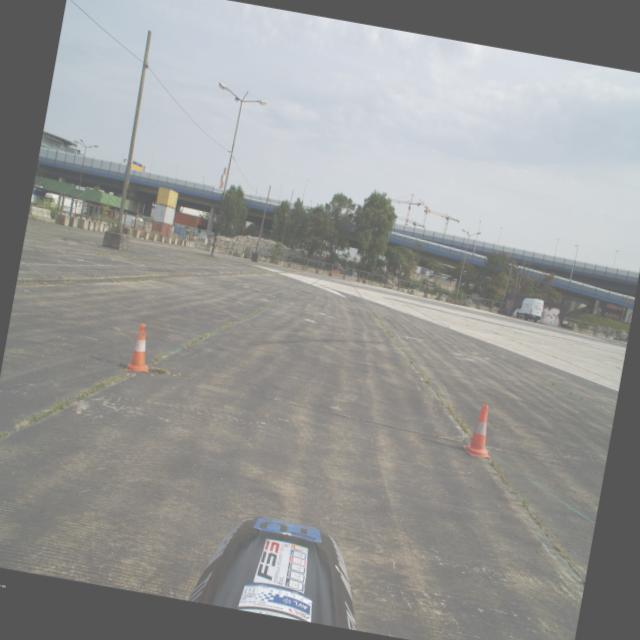orange_cone: (462, 401, 499, 458), (124, 321, 156, 374)
